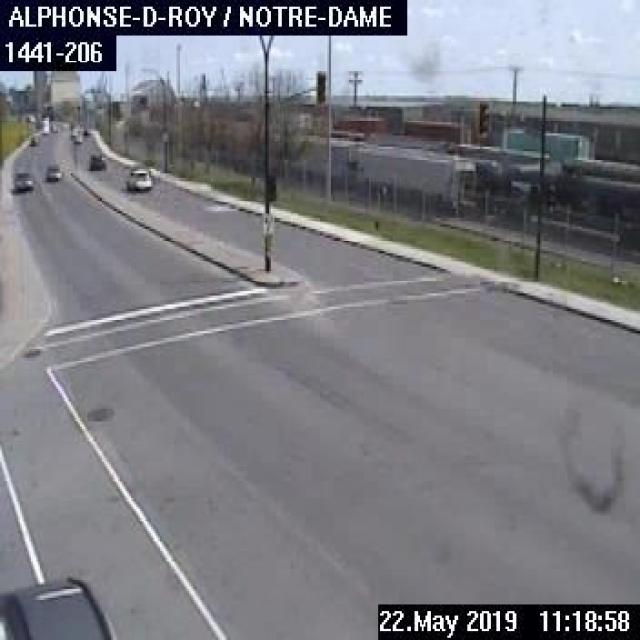vehicle: (0, 578, 115, 638), (120, 162, 153, 191), (11, 167, 34, 191), (43, 160, 61, 180), (88, 151, 108, 169)
